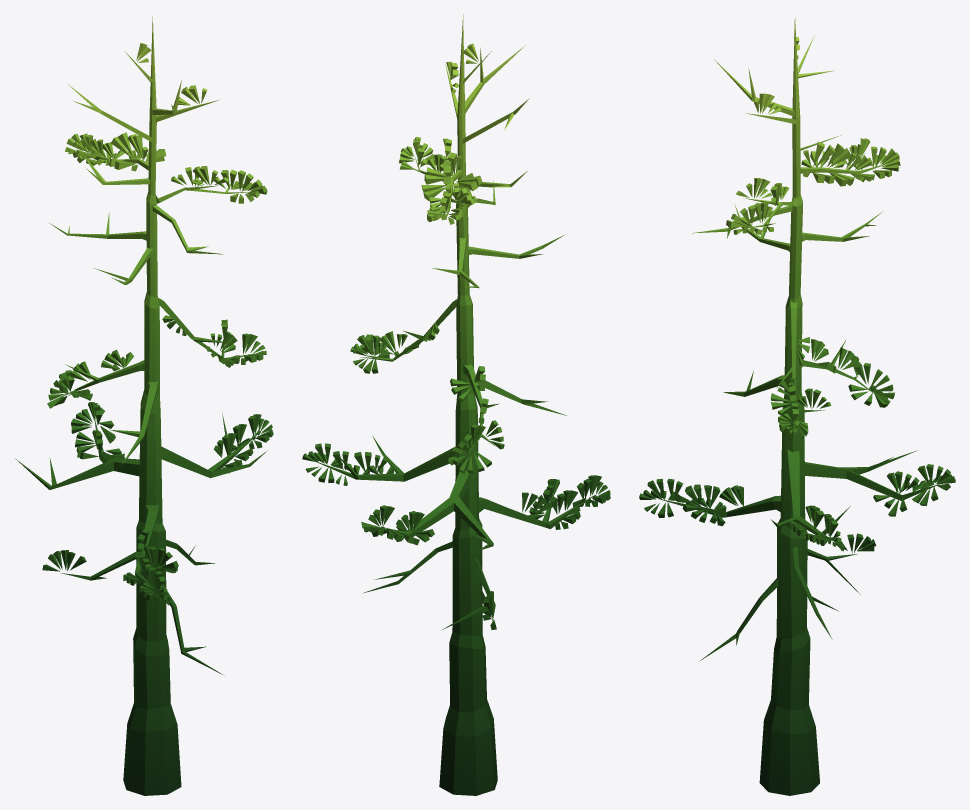
File: Tree1.fbx
3 views of the same model, side by side, from view 1: azimuth 30°, elevation 25°; view 2: azimuth 150°, elevation 25°; view 3: azimuth 270°, elevation 25° (orthographic).
Visible parts, largest first — view 1: Cylinder.012; view 2: Cylinder.012; view 3: Cylinder.012.
Part boxes in pixels (x1,y1,x2,y2): Cylinder.012: [15, 16, 273, 795]; Cylinder.012: [302, 14, 610, 795]; Cylinder.012: [639, 18, 955, 795].
Size of the model in its own units: 8.02 by 27.15 by 10.12.
